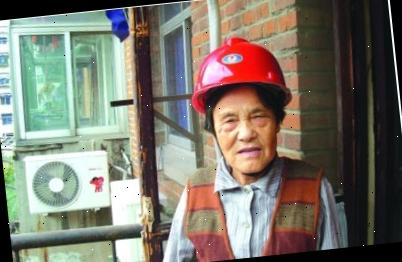helmet: (184, 33, 288, 114)
